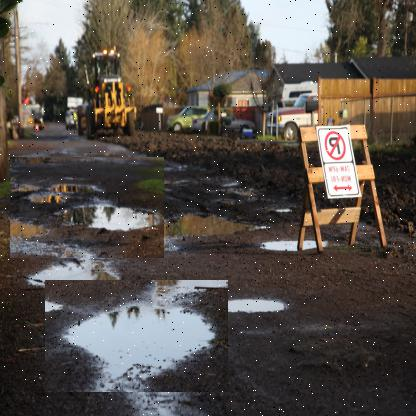pothole_water: (44, 280, 228, 393)
pothole_water_m: (9, 157, 164, 259)
